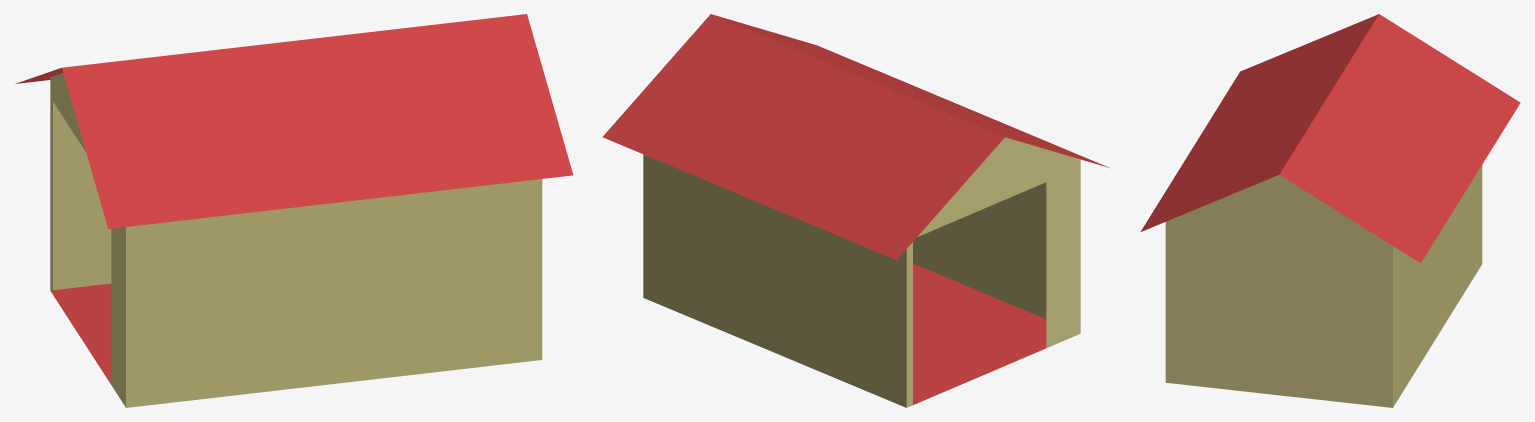
3 renders of one model, left to right at view 1: azimuth 30°, elevation 25°; view 2: azimuth 150°, elevation 25°; view 3: azimuth 270°, elevation 25°, orthographic. The views are drawn at different scales.
Size of the model in its own units: 21.82 by 18.28 by 12.18.
